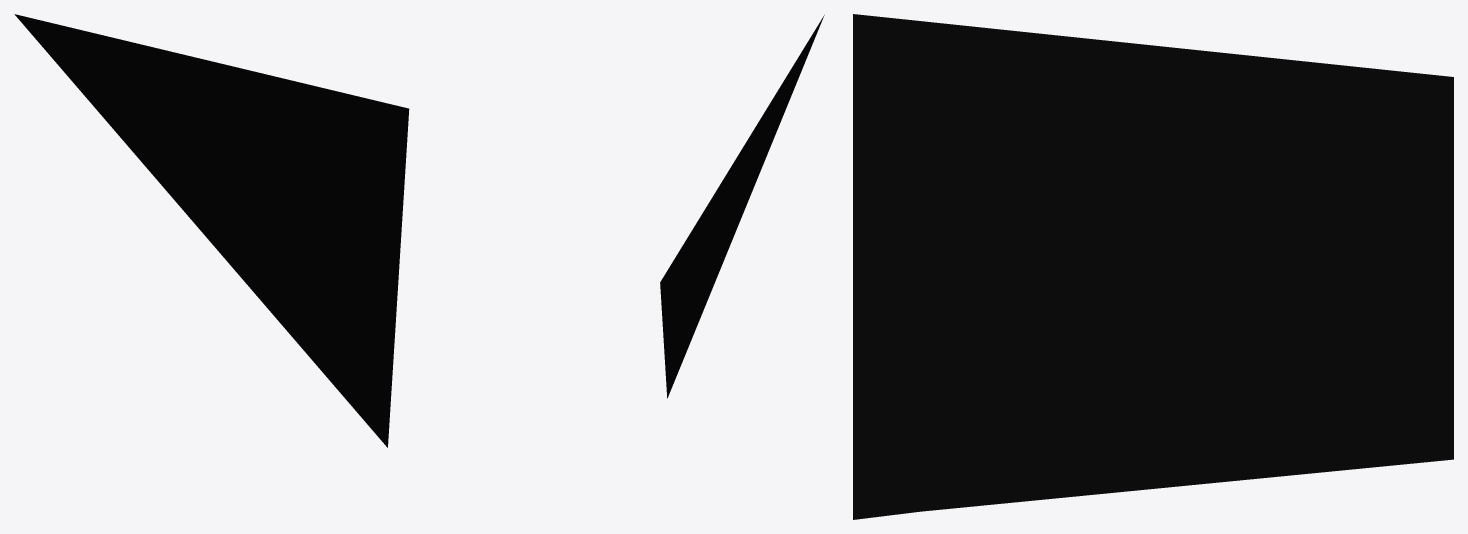
The picture shows the model from 3 angles, left to right: view 1: azimuth 30°, elevation 25°; view 2: azimuth 150°, elevation 25°; view 3: azimuth 270°, elevation 25°; orthographic projection. The views are drawn at different scales.
Size of the model in its own units: 1.29 by 2.37 by 2.95.
Materials: 2 (2 with a texture image).
